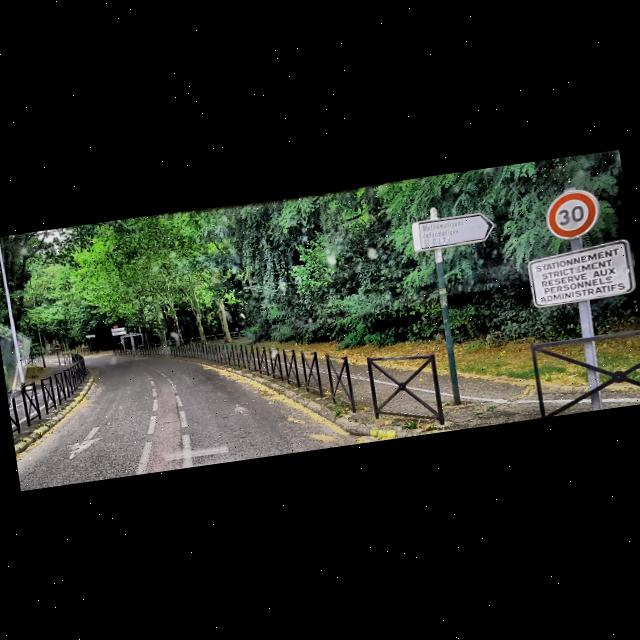speed_30: (546, 189, 601, 238)
